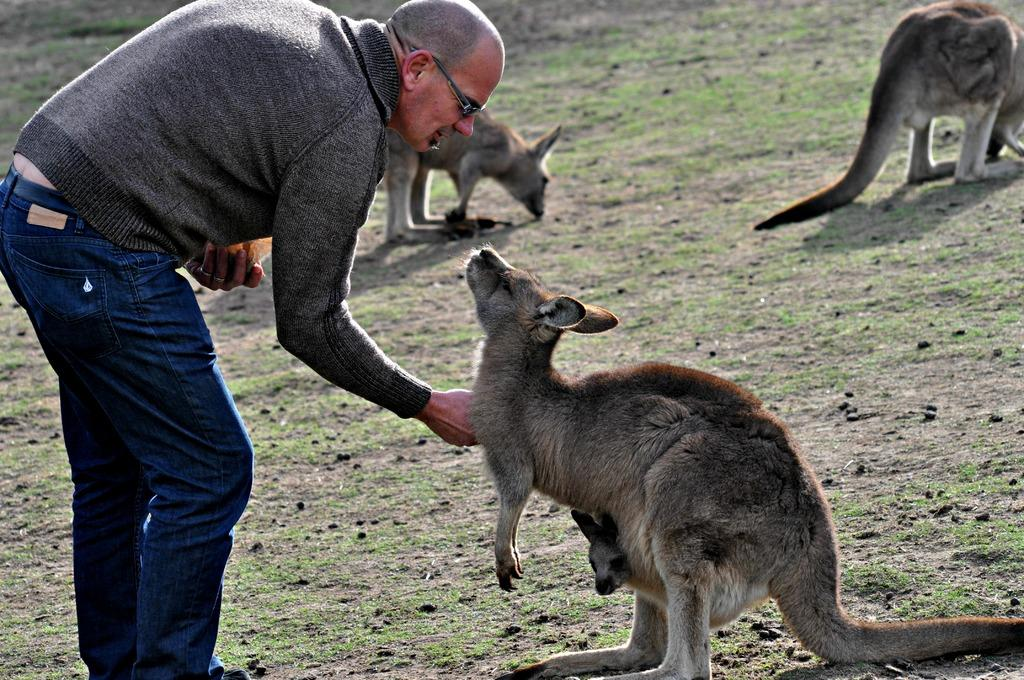kangaroo: (456, 242, 1024, 680), (748, 3, 1024, 232), (384, 106, 564, 236)
